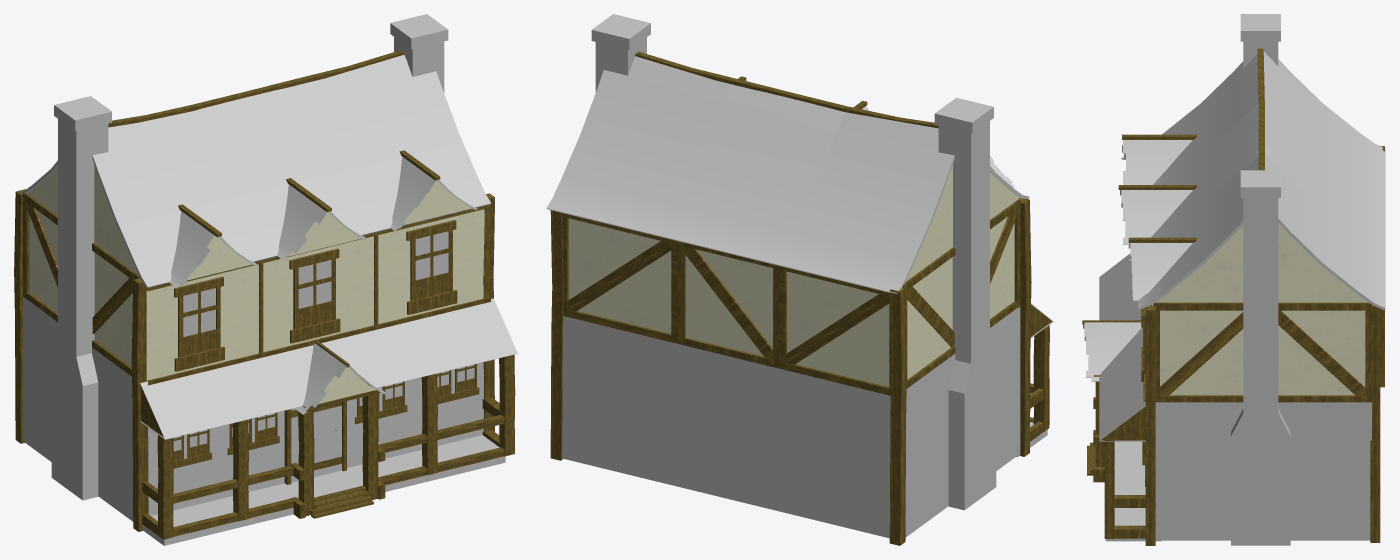
The model's file is Tavern.fbx.
3 views of the same model, side by side, from view 1: azimuth 30°, elevation 25°; view 2: azimuth 150°, elevation 25°; view 3: azimuth 270°, elevation 25° (orthographic). The views are drawn at different scales.
Visible parts, largest first — view 1: Roof28, Chimney5, Wall_Top_bottom_Plank16, Wall_Top_bottom_Plank15, Wall_Top_bottom_Plank14, Wall_Plane_Half16, Wall_Plane34, Roof_Triangle3, Roof_Triangle6, Wall_Plane37, Roof_Triangle4, Roof_Triangle7 (+41 smaller); view 2: Roof28, Wall_Plane41, Wall_Plane40, Chimney5, Wall_Cross_Right6, Wall_Cross_Right7, Wall_Cross_Left7, Wall_Cross_Left6, Wall_Plane32, Wood_Pillar_Long_Thick8, Wall_Cross_Right5, Wood_Pillar_Long_Thick9 (+9 smaller); view 3: Roof28, Chimney4, Wall_Cross_Left5, Wall_Cross_Right4, Wall_Plane29, Wall_Plane30, Roof_End16, Wall_Plane_Half13, Wall_Plane_Half9, Wood_Pillar_Long_Thick6, Roof_Triangle7, Roof26 (+17 smaller).
Part boxes in pixels (bbox=[...]): Roof28: bbox=[20, 55, 491, 288]; Chimney5: bbox=[51, 96, 111, 500]; Wall_Top_bottom_Plank16: bbox=[146, 260, 262, 385]; Wall_Top_bottom_Plank15: bbox=[261, 232, 376, 357]; Wall_Top_bottom_Plank14: bbox=[376, 199, 490, 329]; Wall_Plane_Half16: bbox=[142, 435, 505, 545]; Wall_Plane34: bbox=[148, 411, 284, 515]; Roof_Triangle3: bbox=[140, 368, 240, 439]; Roof_Triangle6: bbox=[321, 319, 442, 387]; Wall_Plane37: bbox=[347, 362, 483, 467]; Roof_Triangle4: bbox=[217, 345, 313, 421]; Roof_Triangle7: bbox=[419, 298, 517, 371]; Roof28: bbox=[546, 56, 1029, 293]; Wall_Plane41: bbox=[562, 316, 749, 503]; Wall_Plane40: bbox=[749, 361, 890, 538]; Chimney5: bbox=[934, 97, 996, 510]; Wall_Cross_Right6: bbox=[562, 213, 677, 343]; Wall_Cross_Right7: bbox=[778, 266, 891, 395]; Wall_Cross_Left7: bbox=[677, 241, 778, 368]; Wall_Cross_Left6: bbox=[902, 247, 955, 388]; Wall_Plane32: bbox=[905, 354, 955, 495]; Wood_Pillar_Long_Thick8: bbox=[889, 288, 906, 545]; Wall_Cross_Right5: bbox=[990, 199, 1020, 327]; Wood_Pillar_Long_Thick9: bbox=[550, 210, 563, 460]; Roof28: bbox=[1138, 51, 1385, 309]; Chimney4: bbox=[1231, 170, 1290, 545]; Wall_Cross_Left5: bbox=[1278, 302, 1371, 402]; Wall_Cross_Right4: bbox=[1153, 302, 1243, 402]; Wall_Plane29: bbox=[1278, 402, 1371, 501]; Wall_Plane30: bbox=[1155, 402, 1243, 501]; Roof_End16: bbox=[1155, 222, 1368, 302]; Wall_Plane_Half13: bbox=[1290, 501, 1370, 540]; Wall_Plane_Half9: bbox=[1155, 501, 1230, 540]; Wood_Pillar_Long_Thick6: bbox=[1145, 305, 1155, 545]; Roof_Triangle7: bbox=[1099, 374, 1145, 441]; Roof26: bbox=[1120, 190, 1192, 248].
Bounding box in the file's own units: 1171 × 1137 × 867.
